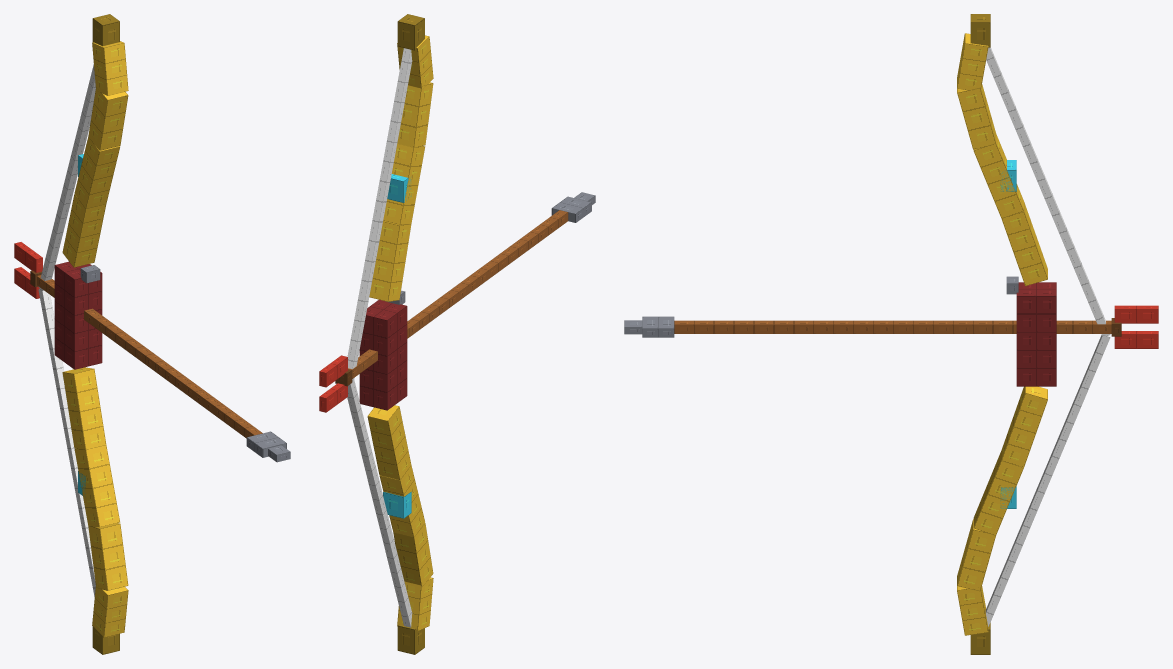
The picture shows the model from 3 angles, left to right: view 1: azimuth 30°, elevation 25°; view 2: azimuth 150°, elevation 25°; view 3: azimuth 270°, elevation 25°; orthographic projection.
Parts seen in each view (by area): view 1: W16; view 2: W16; view 3: W16.
Part boxes in pixels (x1,y1,x2,y2): W16: [14, 14, 290, 654]; W16: [319, 14, 595, 654]; W16: [624, 14, 1158, 654].
Size of the model in its own units: 0.16 by 3.49 by 2.67.
1 material, 1 textured.
